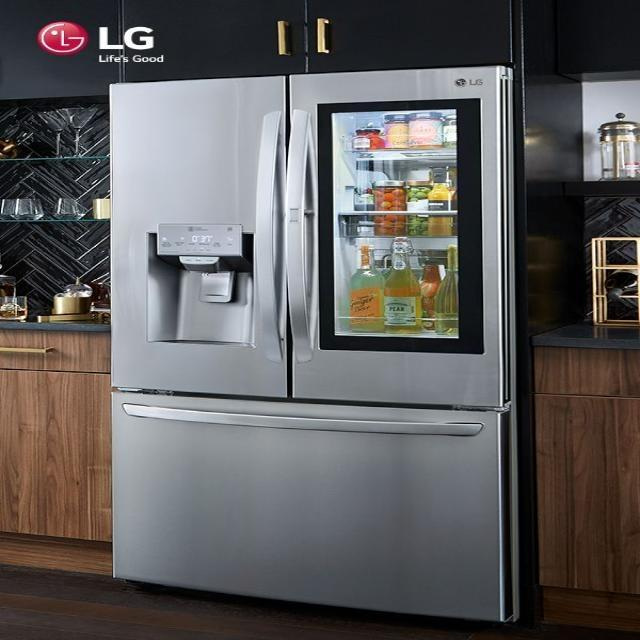obstacle: (108, 64, 522, 624), (0, 327, 112, 544)
